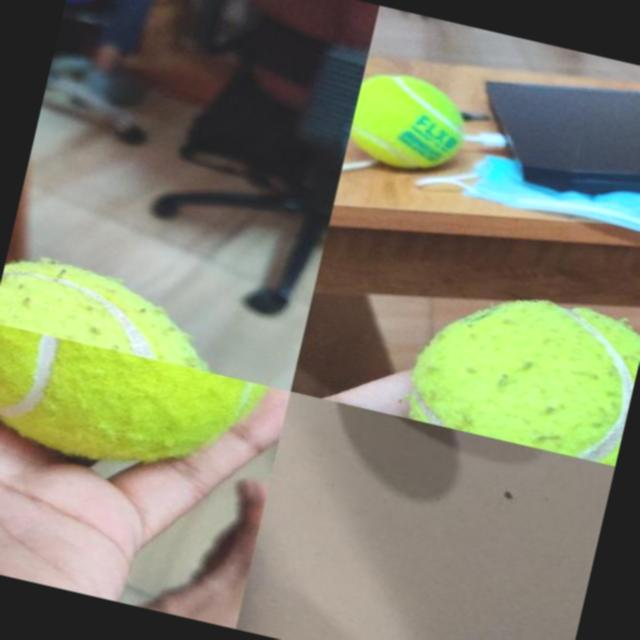tennis-ball: (402, 272, 640, 464), (0, 322, 267, 492), (0, 249, 238, 374), (344, 66, 473, 181)
